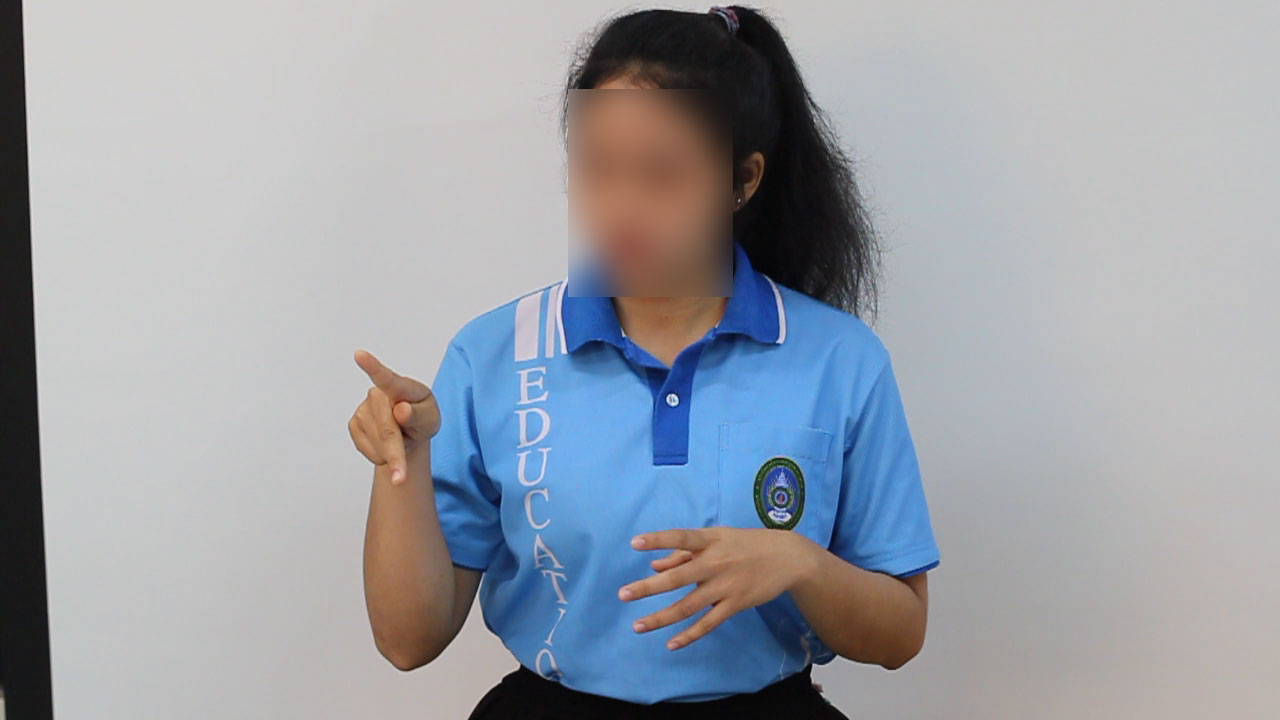por: (323, 329, 455, 499)
